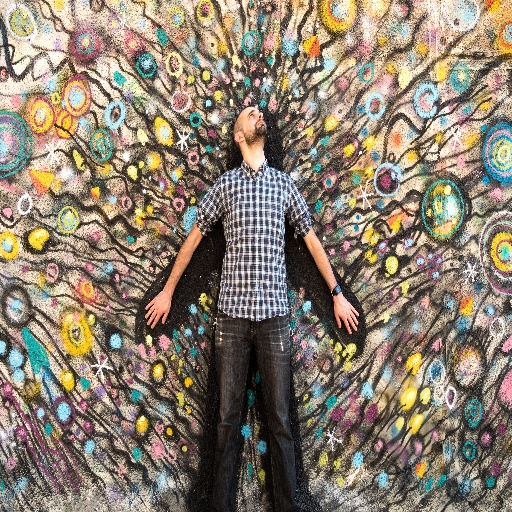hand: (329, 281, 361, 341), (145, 289, 170, 329)
